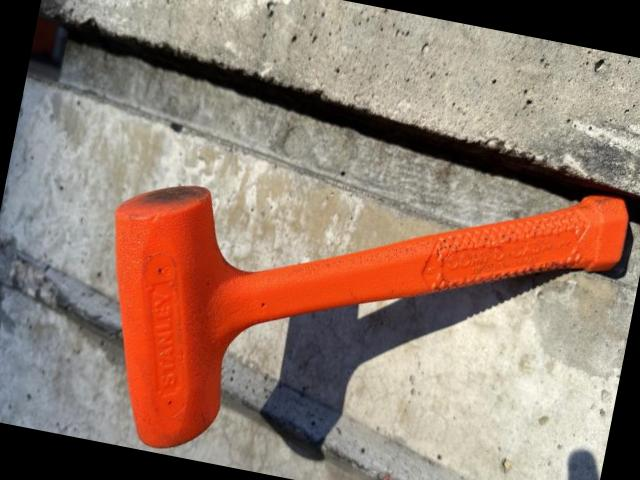hammer: (70, 98, 636, 480)
